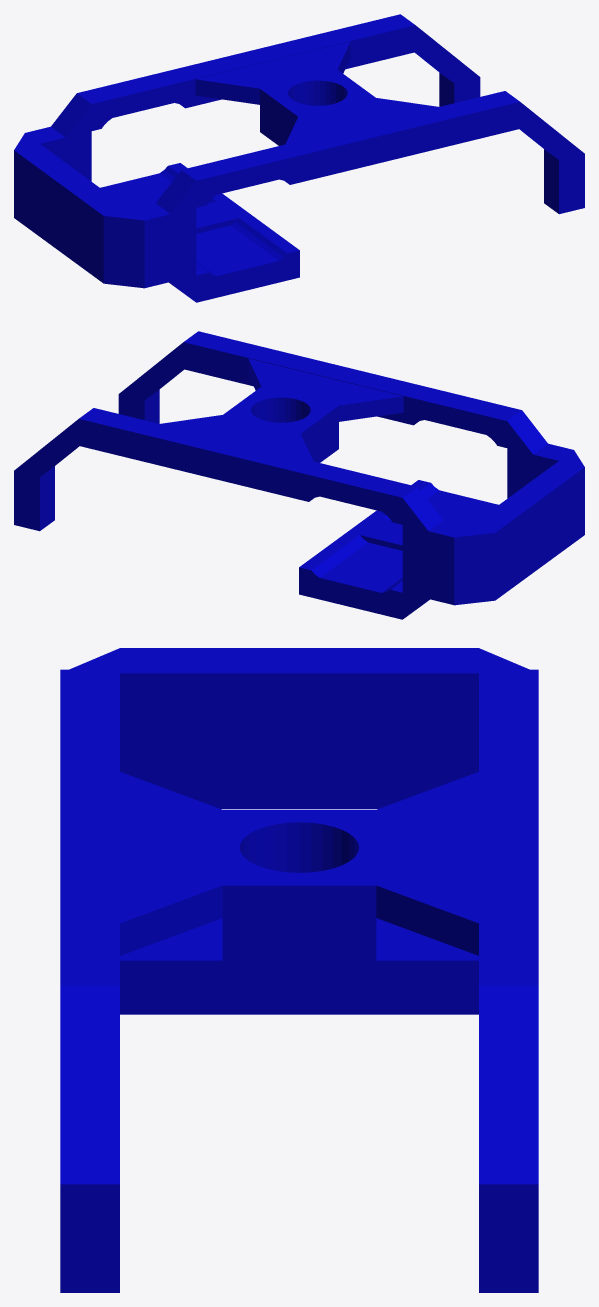
The model's file is frame.dae.
3 renders of one model, top to bottom at view 1: azimuth 30°, elevation 25°; view 2: azimuth 150°, elevation 25°; view 3: azimuth 270°, elevation 25°, orthographic. The views are drawn at different scales.
Parts seen in each view (by area): view 1: Plane_001; view 2: Plane_001; view 3: Plane_001.
Boxes of the visible parts, x1,y1,x2,y2 form: Plane_001: [14, 14, 584, 302]; Plane_001: [14, 331, 584, 619]; Plane_001: [60, 648, 538, 1292].
Size of the model in its own units: 0.09 by 0.04 by 0.0225.
